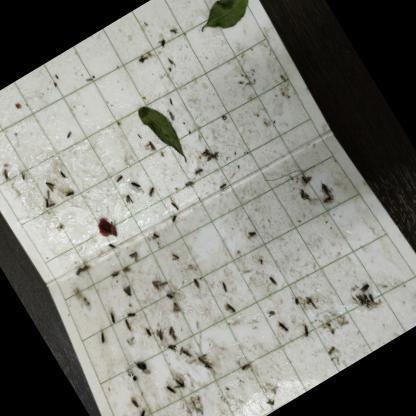prays_oleae: (197, 136, 226, 171), (37, 192, 62, 221), (178, 173, 204, 200), (90, 326, 116, 352), (316, 180, 340, 208), (116, 256, 140, 284), (292, 184, 316, 211), (318, 332, 341, 360), (195, 350, 219, 376), (71, 255, 95, 281), (354, 272, 378, 296), (58, 121, 80, 146), (244, 220, 264, 247), (144, 270, 166, 294), (103, 263, 125, 286), (192, 161, 212, 186), (164, 246, 186, 268), (186, 271, 206, 295), (214, 176, 233, 200), (236, 356, 258, 376), (153, 34, 173, 56), (140, 320, 158, 344), (120, 316, 138, 340), (350, 288, 368, 312), (275, 316, 294, 338), (127, 247, 146, 268), (165, 209, 184, 230), (117, 281, 136, 301), (151, 324, 168, 346), (122, 192, 140, 212), (62, 184, 80, 204), (172, 372, 190, 392), (170, 198, 188, 218), (162, 381, 180, 401), (104, 236, 122, 256), (134, 357, 152, 376), (224, 298, 241, 318), (128, 178, 146, 196), (168, 301, 186, 319), (162, 286, 180, 304), (0, 167, 16, 187), (360, 290, 376, 310), (43, 176, 58, 197), (167, 23, 184, 41), (166, 327, 183, 344), (126, 392, 142, 410), (215, 274, 231, 292), (146, 139, 161, 157), (105, 308, 121, 324), (266, 274, 282, 290), (148, 230, 166, 244), (298, 320, 313, 336), (302, 293, 316, 310), (180, 346, 194, 361), (16, 168, 29, 184), (134, 404, 151, 416), (146, 184, 160, 198), (168, 342, 182, 356), (125, 308, 137, 320), (266, 306, 279, 317), (114, 174, 128, 184)
